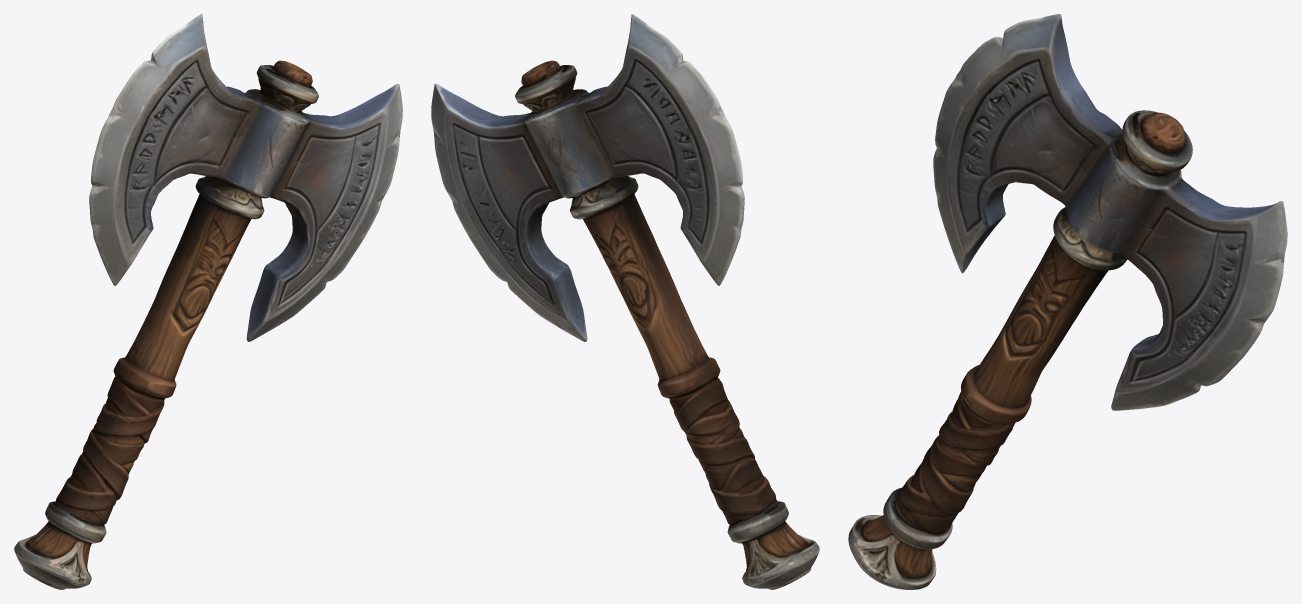
The model's file is axe.glb.
3 renders of one model, left to right at view 1: azimuth 30°, elevation 25°; view 2: azimuth 150°, elevation 25°; view 3: azimuth 330°, elevation 25°, orthographic. The views are drawn at different scales.
Visible parts, largest first — view 1: node_0; view 2: node_0; view 3: node_0.
Boxes of the visible parts, x1,y1,x2,y2 form: node_0: (14, 14, 402, 589); node_0: (431, 14, 819, 589); node_0: (848, 14, 1287, 589).
Bounding box in the file's own units: 0.7636 × 1.02 × 0.1432.
Materials: 1 (1 with a texture image).
